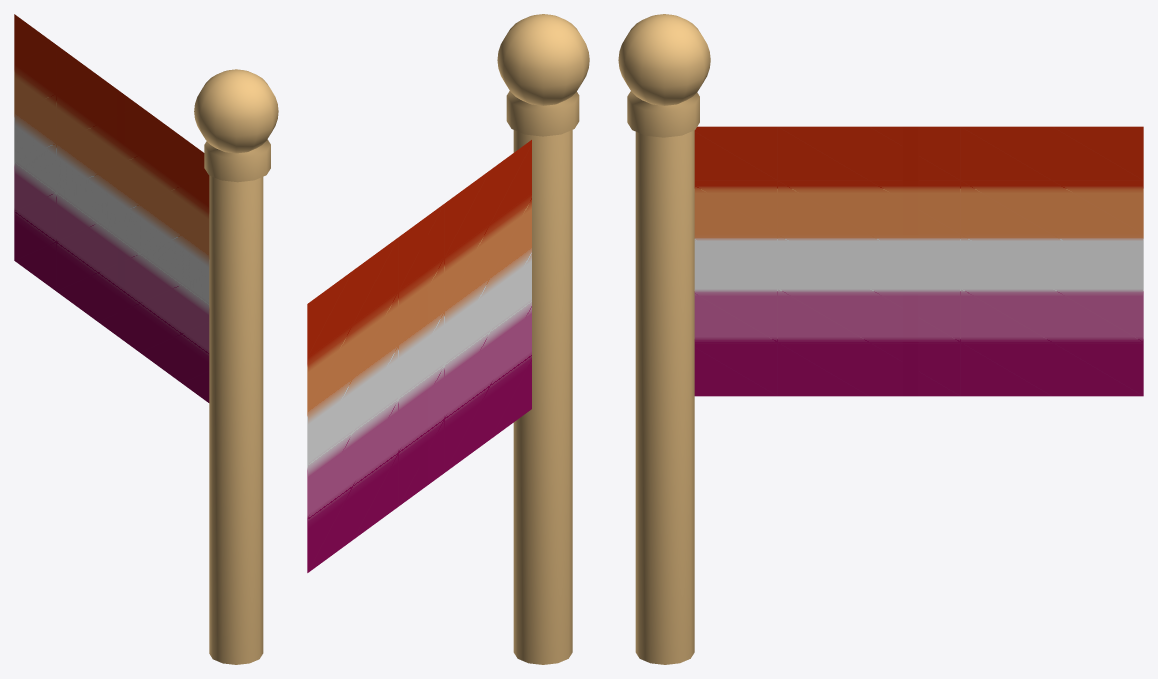
File: lesbian_flag.glb
The picture shows the model from 3 angles, left to right: view 1: azimuth 30°, elevation 25°; view 2: azimuth 150°, elevation 25°; view 3: azimuth 270°, elevation 25°; orthographic projection. The views are drawn at different scales.
Visible parts, largest first — view 1: Lesbian; view 2: Lesbian; view 3: Lesbian.
Boxes of the visible parts, <box> form: Lesbian: <box>14,14,278,664</box>; Lesbian: <box>307,14,589,664</box>; Lesbian: <box>618,14,1143,664</box>.
Size of the model in its own units: 0.4603 by 3.49 by 2.62.
Materials: 2 (1 with a texture image).
